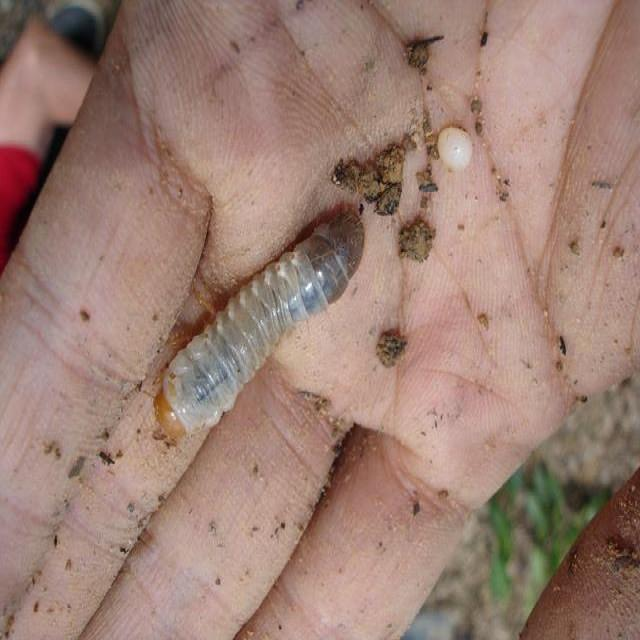grub: (122, 196, 365, 457), (438, 127, 475, 176)
